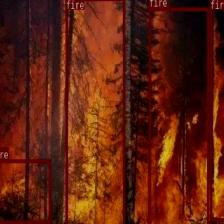fire: (148, 7, 208, 224), (66, 0, 124, 224), (0, 159, 50, 222), (209, 0, 223, 220)
